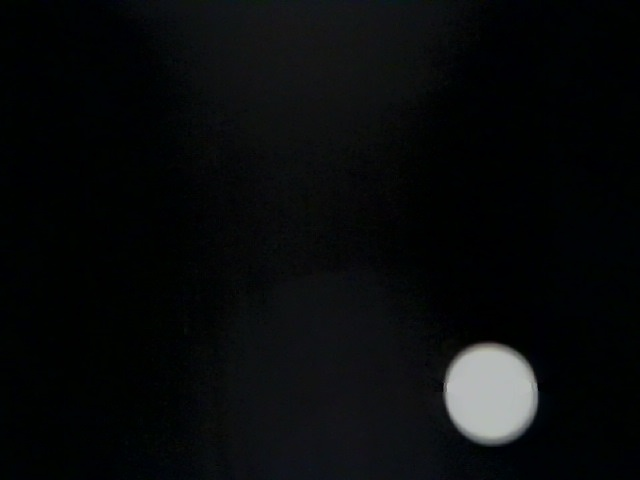YHLJ: (576, 169, 640, 270)
